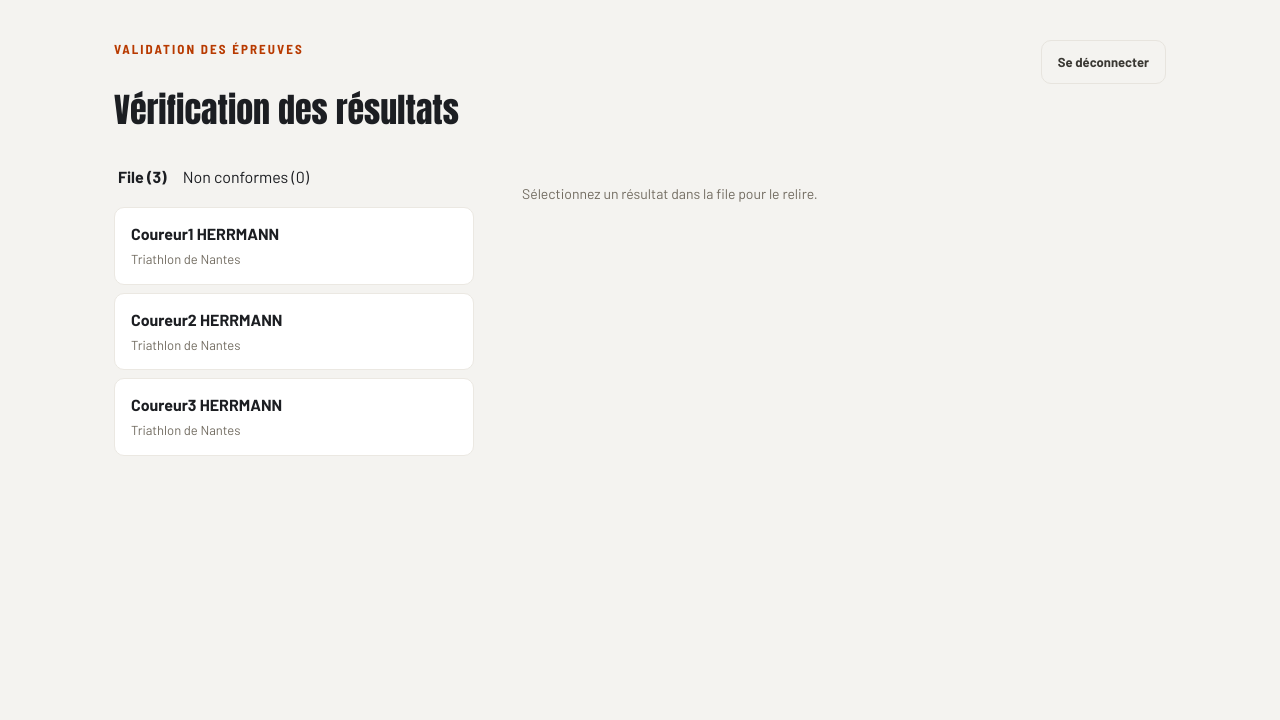
Test: BenevolesPage › réinitialise le défilement de la feuille après un enchaînement (#490, revue UI/UX, item 1)
Expected: the text "Coureur2 HERRMANN" is shown, [131,308,282,332]
Click the button "Coureur2 HERRMANN Triathlon de Nantes": [164, 319] box [114,292,474,370]
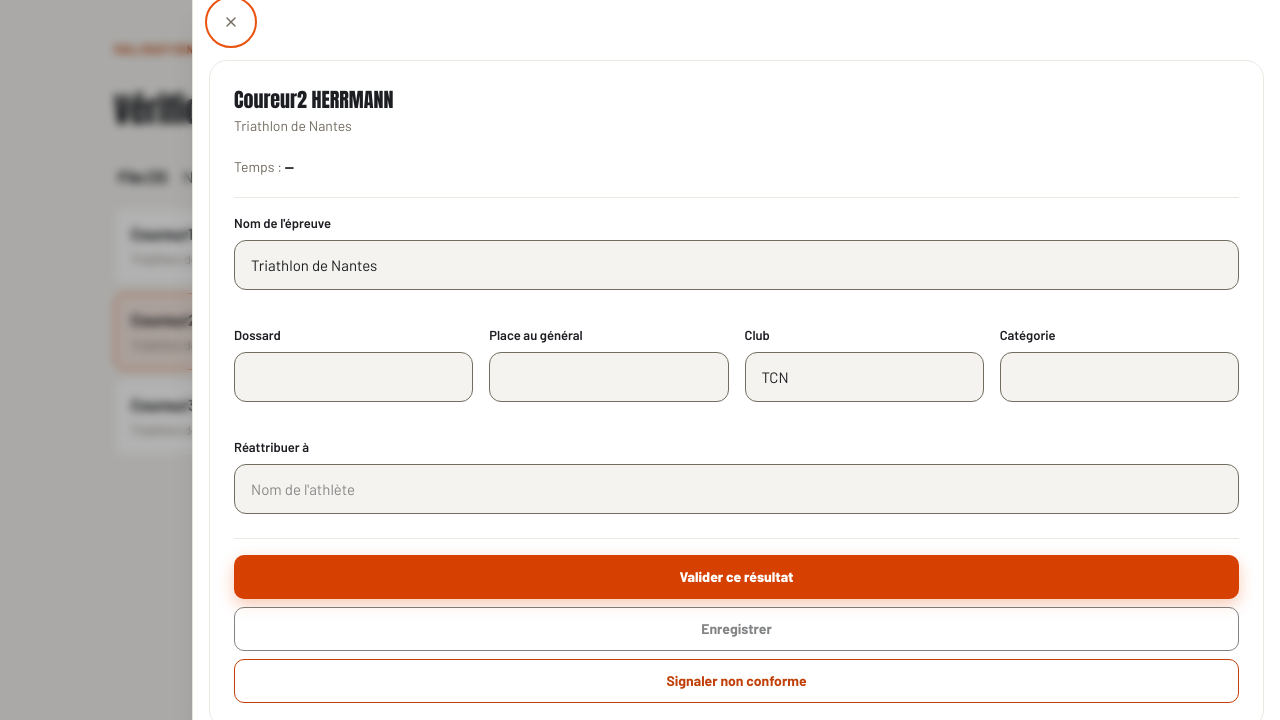
Expected: the dialog is shown
Click the button "Valider ce résultat": [736, 577] box [234,555,1239,599]
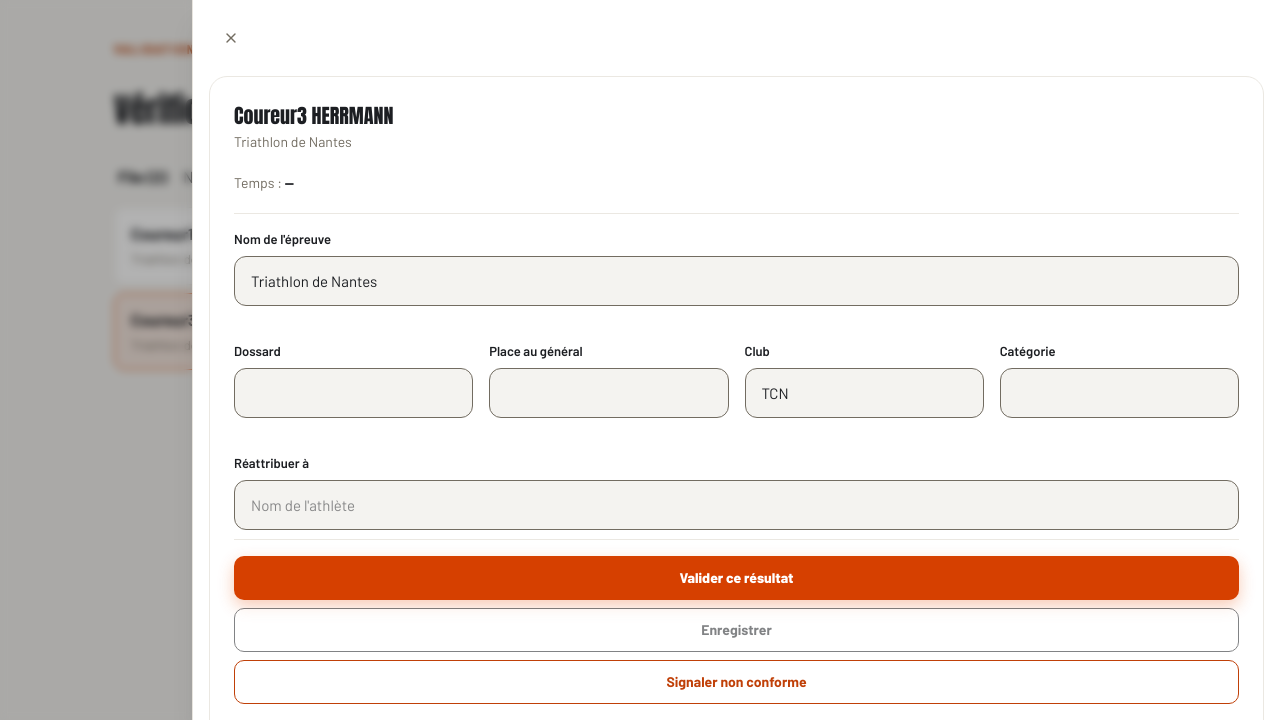
Expected: the heading "Coureur3 HERRMANN" is shown, [234,100,393,131]
